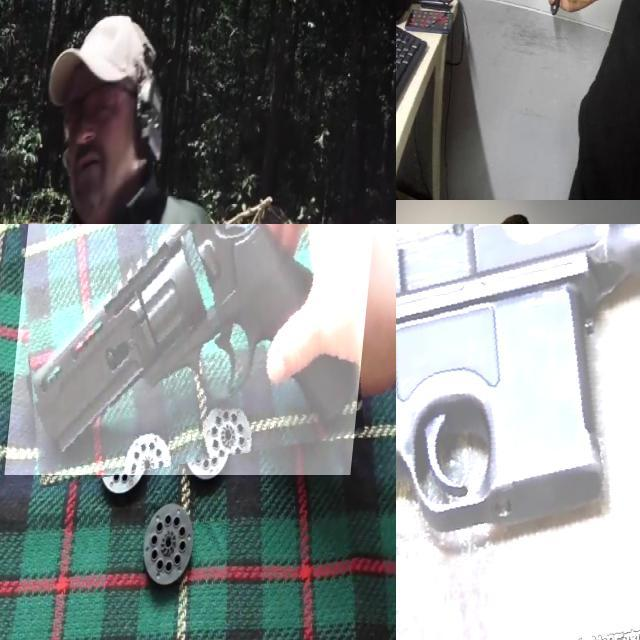-: (396, 7, 463, 129), (557, 0, 585, 40)
gun-knife-thesis - v11 Yolov5 augmented: (396, 224, 640, 640), (11, 224, 380, 475)
